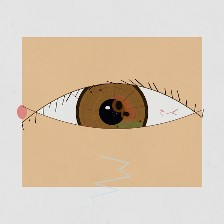foreign_body_visible: (64, 116, 107, 151)
